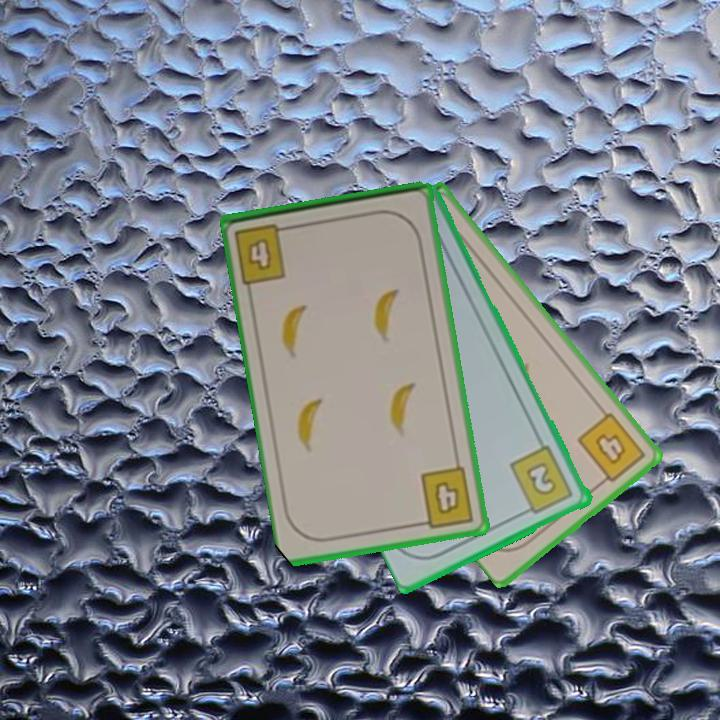2b: (507, 442, 577, 518)
4b: (573, 408, 649, 489), (231, 220, 296, 287), (415, 463, 477, 531)
